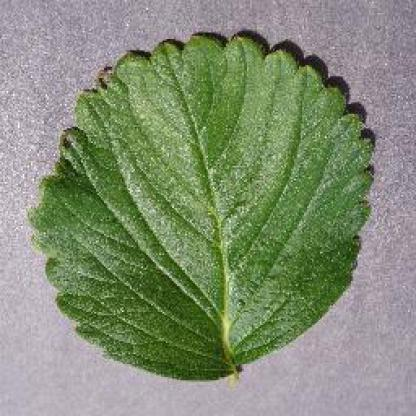healthy: (23, 23, 380, 395)
